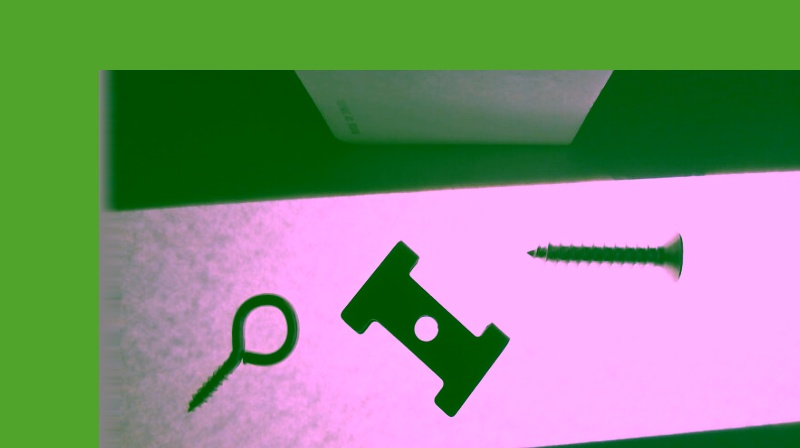O001: (186, 292, 299, 413)
O002: (338, 237, 508, 417)
S001: (522, 224, 683, 281)
